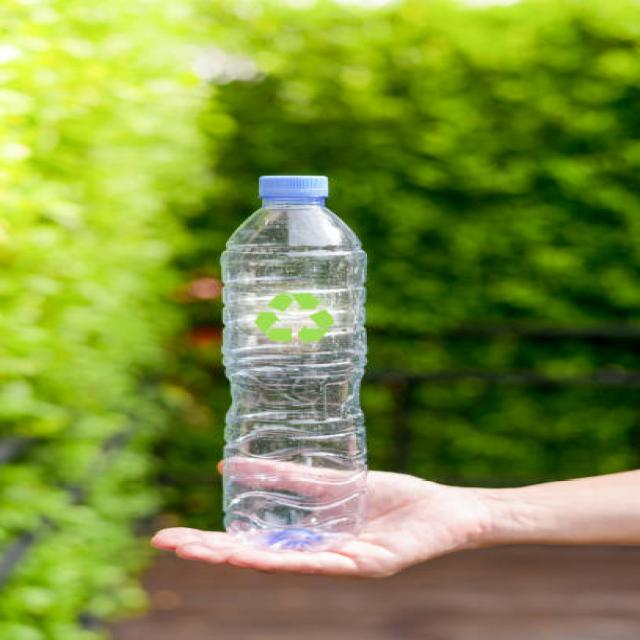plastic: (226, 173, 366, 549)
